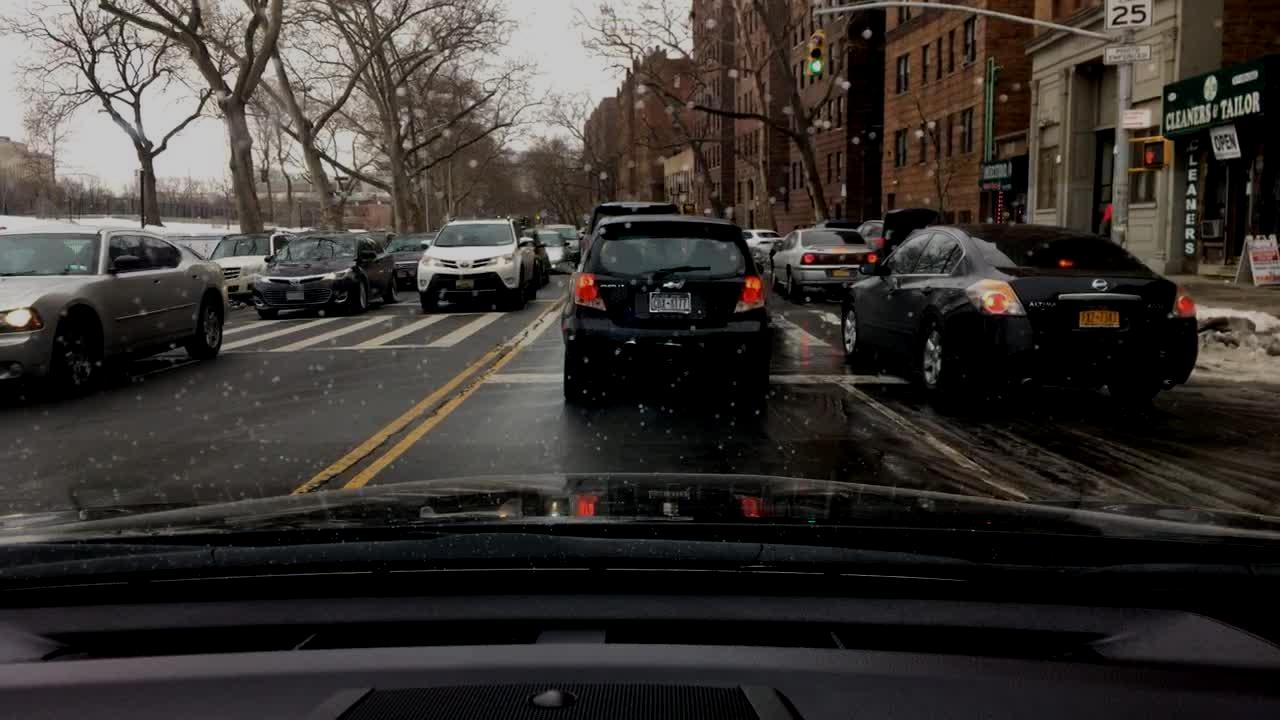Nissan: (1087, 276, 1110, 294)
chevrolet: (659, 274, 685, 298)
